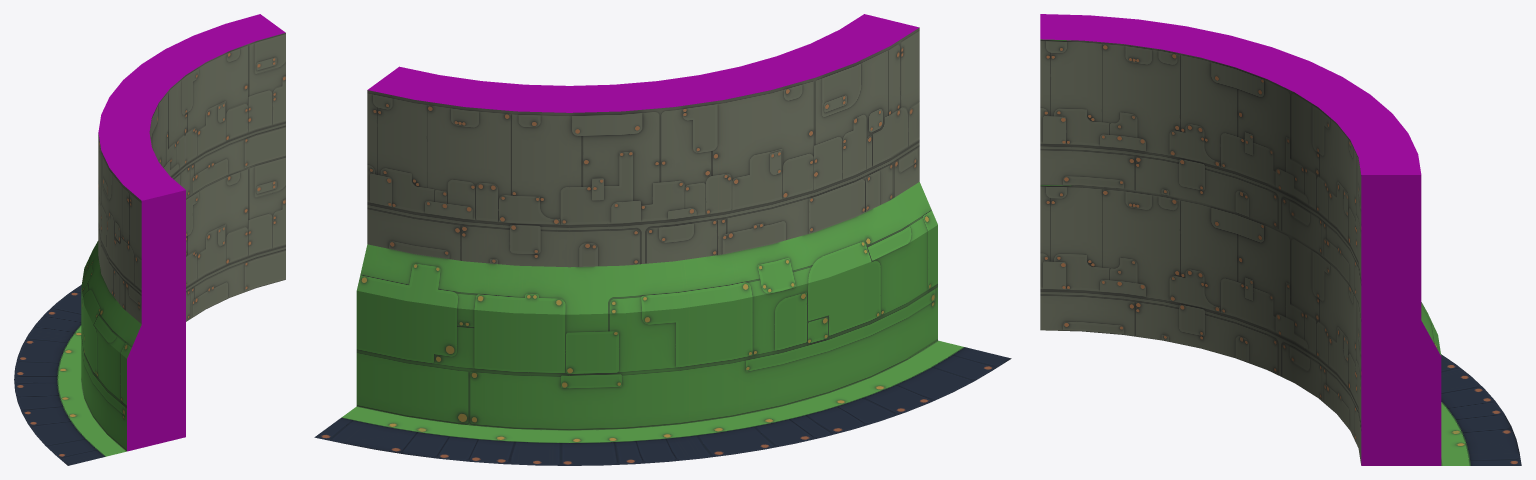
File: Wall_Curved_Large_Top.fbx
3 renders of one model, left to right at view 1: azimuth 30°, elevation 25°; view 2: azimuth 150°, elevation 25°; view 3: azimuth 270°, elevation 25°, orthographic. The views are drawn at different scales.
Visible parts, largest first — view 1: Wall_Curved_Large_Top, Wall_Curved_Large, Floor_Curved_Large; view 2: Wall_Curved_Large_Top, Wall_Curved_Large, Floor_Curved_Large; view 3: Wall_Curved_Large_Top, Wall_Curved_Large, Floor_Curved_Large.
Part boxes in pixels (x1=…): Wall_Curved_Large_Top: x1=98, y1=14, x2=285, y2=324; Wall_Curved_Large: x1=81, y1=156, x2=285, y2=451; Floor_Curved_Large: x1=14, y1=285, x2=126, y2=465; Wall_Curved_Large_Top: x1=367, y1=14, x2=919, y2=267; Wall_Curved_Large: x1=356, y1=182, x2=937, y2=430; Floor_Curved_Large: x1=314, y1=340, x2=1011, y2=465; Wall_Curved_Large_Top: x1=1040, y1=14, x2=1421, y2=320; Wall_Curved_Large: x1=1040, y1=185, x2=1441, y2=465; Floor_Curved_Large: x1=1441, y1=354, x2=1521, y2=465.
Size of the model in its own units: 300 by 200 by 300.
